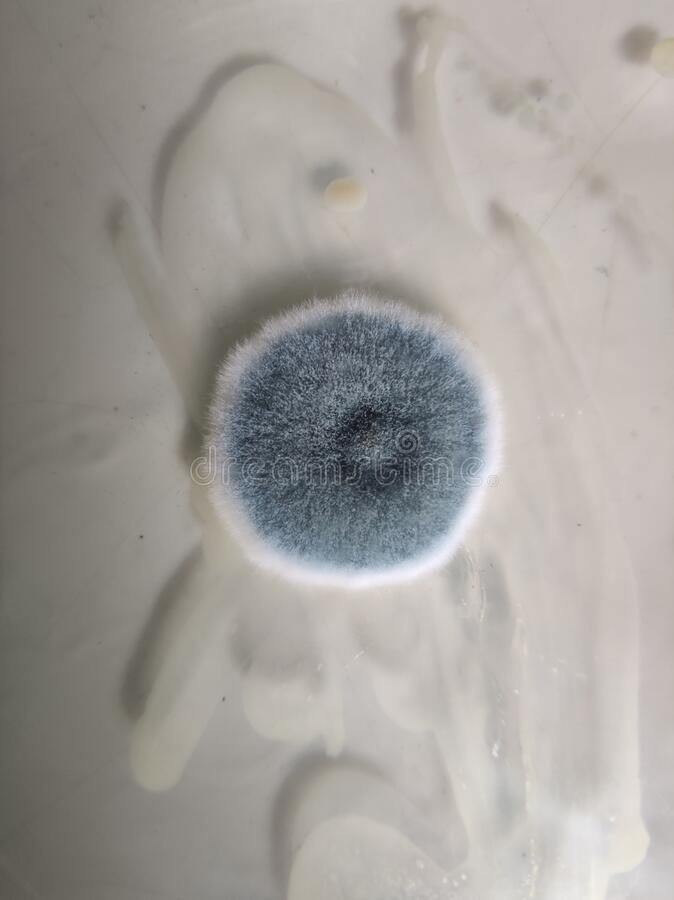Aspergillus: (230, 321, 488, 449), (210, 491, 482, 581)
